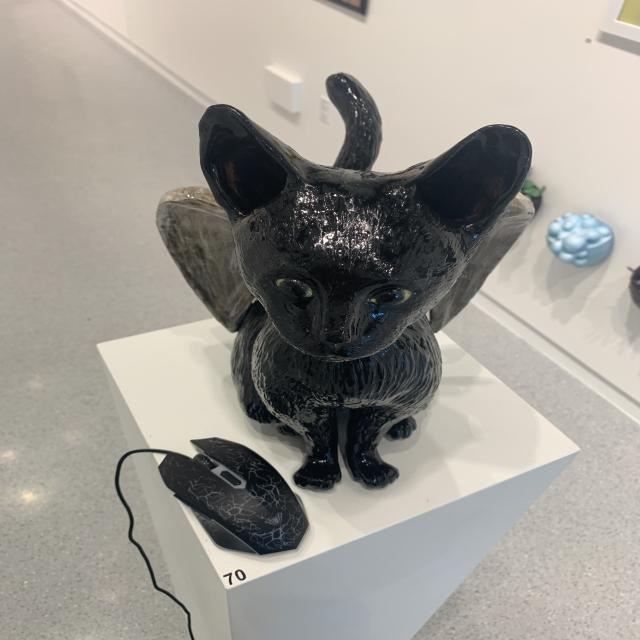Mouse: (152, 431, 314, 556)
